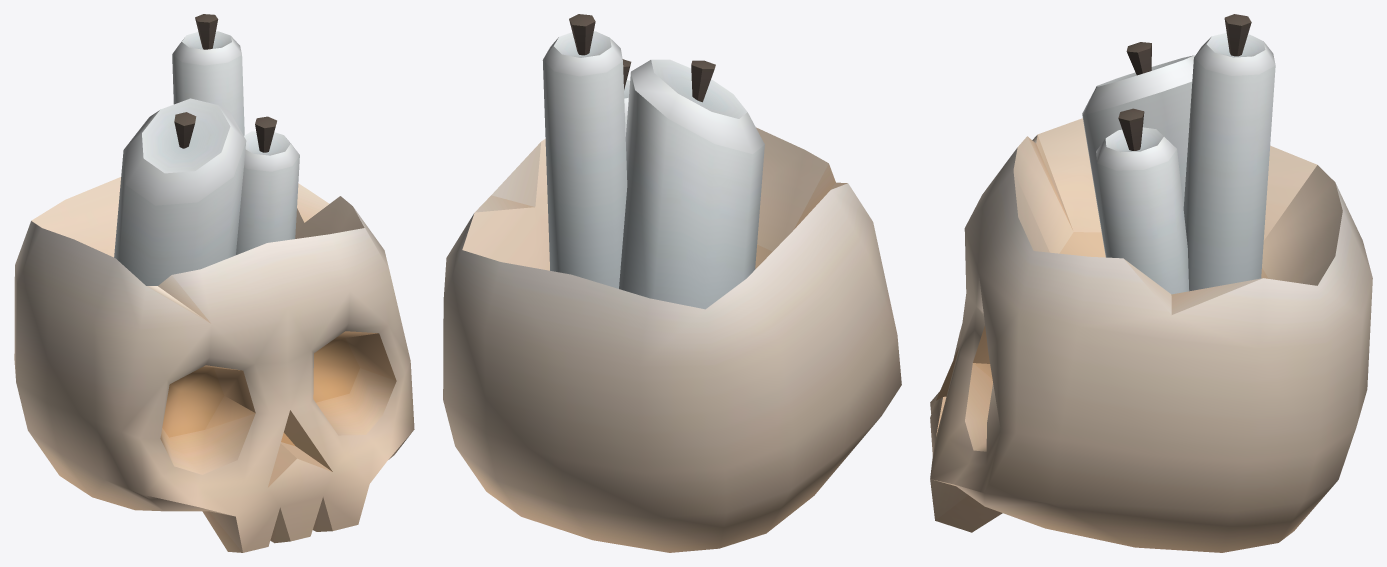
The model's file is skull-candle.glb.
3 views of the same model, side by side, from view 1: azimuth 30°, elevation 25°; view 2: azimuth 150°, elevation 25°; view 3: azimuth 270°, elevation 25° (orthographic). The views are drawn at different scales.
Visible parts, largest first — view 1: skull_candle; view 2: skull_candle; view 3: skull_candle.
Part boxes in pixels (x1,y1,x2,y2): skull_candle: [14, 14, 414, 552]; skull_candle: [443, 14, 901, 552]; skull_candle: [930, 14, 1372, 552].
Bounding box in the file's own units: 0.9176 × 1.19 × 0.9361.
1 material, 1 textured.
